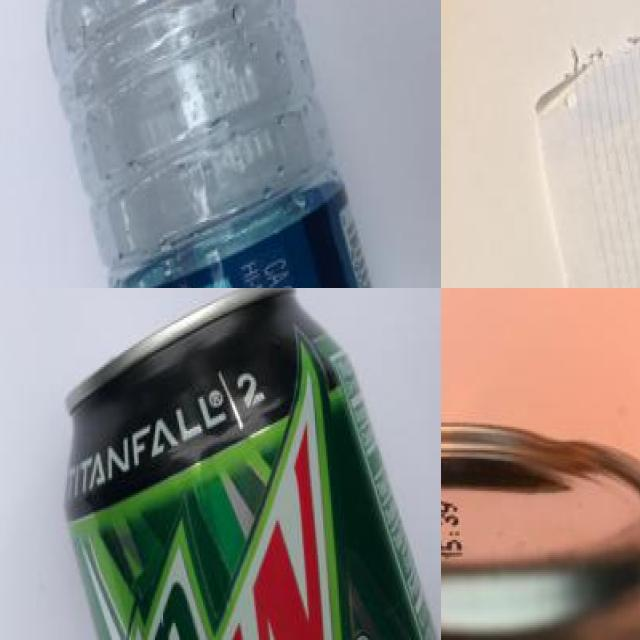paper: (536, 0, 640, 288)
plastic: (48, 288, 441, 640), (33, 0, 434, 288), (441, 419, 640, 640)
